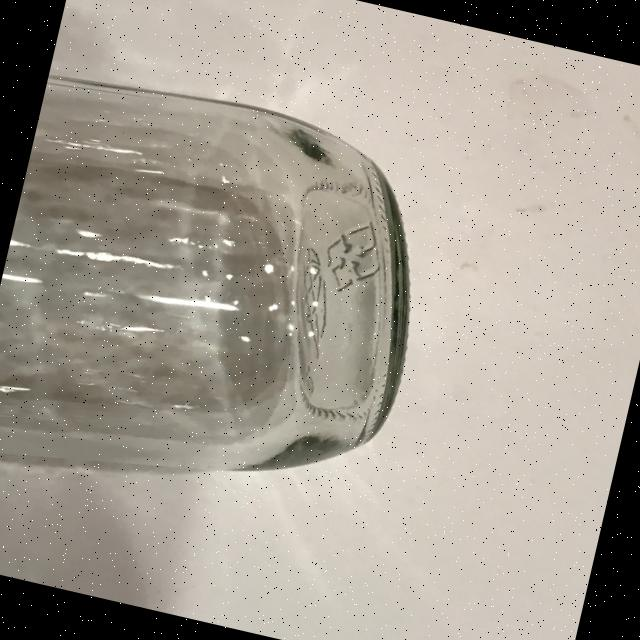glass: (0, 57, 454, 549)
